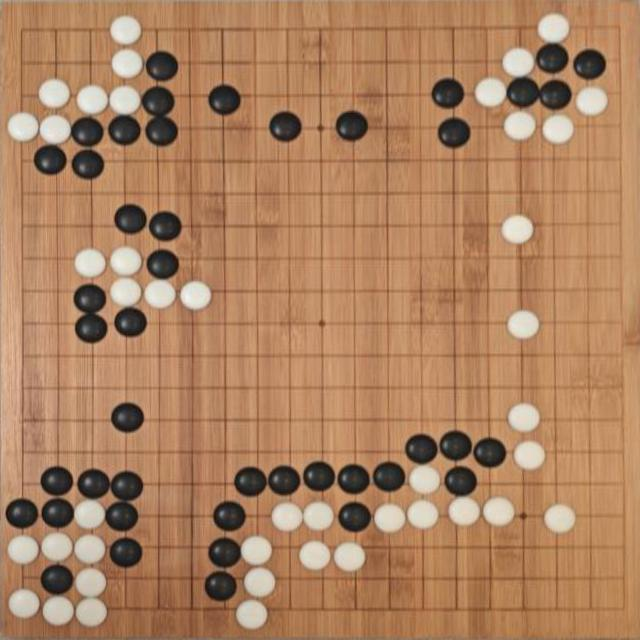blackstone: (573, 49, 607, 80), (439, 431, 473, 462), (337, 463, 371, 494), (303, 461, 336, 492), (41, 564, 74, 595), (432, 78, 466, 108), (148, 211, 182, 241), (114, 204, 148, 234), (146, 249, 180, 279), (145, 116, 179, 146), (539, 79, 573, 109), (506, 77, 540, 107), (536, 43, 570, 73), (73, 284, 107, 314), (71, 117, 105, 147), (405, 434, 439, 464), (234, 467, 268, 497), (40, 466, 74, 496), (444, 466, 478, 496), (338, 502, 372, 532), (6, 499, 40, 529), (109, 538, 143, 568), (208, 538, 242, 568), (106, 501, 140, 531), (269, 112, 302, 142), (438, 118, 471, 148), (111, 403, 144, 433), (72, 149, 105, 179), (34, 145, 67, 175), (146, 50, 179, 80), (108, 115, 141, 145), (474, 438, 507, 468), (142, 86, 175, 116), (213, 501, 246, 531), (268, 466, 301, 496), (373, 462, 406, 492), (77, 469, 110, 499), (110, 471, 143, 501), (42, 498, 75, 528), (208, 85, 242, 114), (75, 314, 109, 343), (336, 111, 368, 141), (114, 308, 147, 337), (205, 572, 238, 600)
whitestone: (507, 402, 541, 434), (542, 503, 576, 535), (298, 540, 332, 572), (243, 566, 277, 598), (74, 566, 108, 598), (235, 599, 270, 630), (76, 84, 109, 116), (334, 541, 367, 573), (8, 588, 41, 620), (503, 110, 537, 141), (6, 111, 40, 142), (482, 497, 516, 528), (109, 277, 143, 308), (448, 496, 482, 527), (240, 535, 274, 566), (75, 597, 109, 628), (42, 595, 76, 626), (180, 280, 212, 312), (507, 310, 540, 341), (513, 441, 546, 472), (74, 248, 107, 279), (38, 78, 71, 109), (39, 114, 72, 145), (408, 464, 441, 495), (407, 499, 440, 530), (373, 503, 406, 534), (271, 501, 304, 532), (7, 534, 40, 565), (74, 499, 107, 530), (74, 534, 107, 565), (501, 215, 535, 245), (575, 86, 609, 116), (144, 280, 178, 310), (109, 246, 143, 276), (502, 47, 534, 78), (302, 501, 334, 532), (111, 49, 144, 79), (41, 532, 74, 562), (542, 114, 574, 144), (538, 13, 570, 43), (110, 15, 142, 45), (109, 85, 141, 115), (475, 77, 506, 107)
